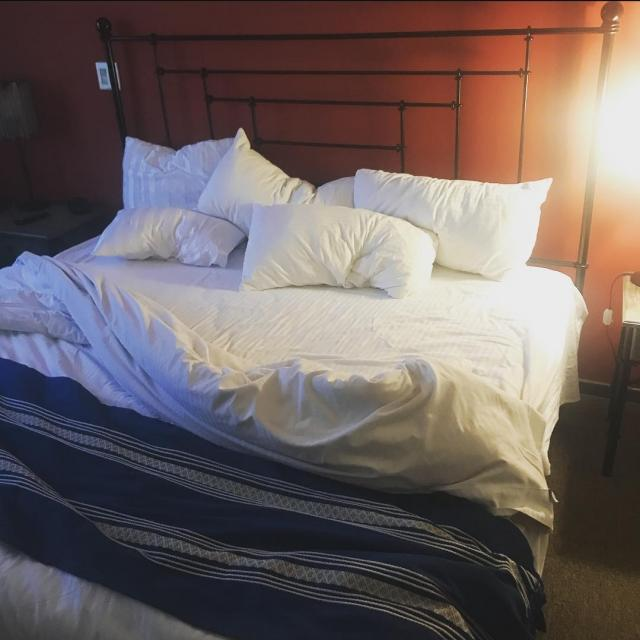bed: (0, 134, 579, 549)
